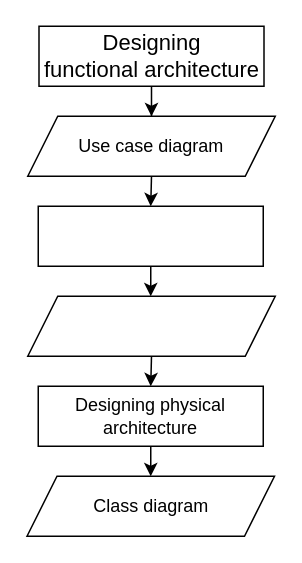
This 302x563 diagram has some shape labels left out. Each missing label, with the centre of its shape:
"BPMN to be" belongs at point (150, 325).
"Designing logical architecture" belongs at point (150, 235).
